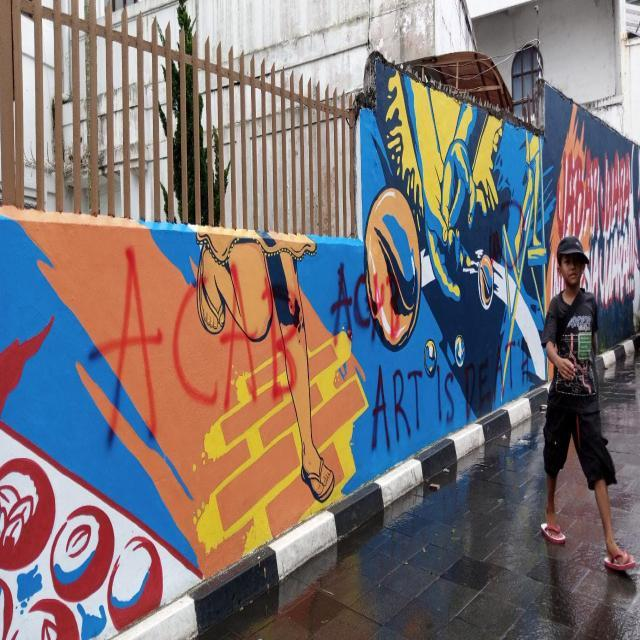-: (1, 206, 368, 628), (1, 305, 202, 628), (372, 58, 550, 422), (90, 241, 300, 457), (555, 90, 637, 344), (558, 148, 638, 303), (371, 361, 507, 446), (334, 262, 399, 352), (506, 340, 534, 388)
